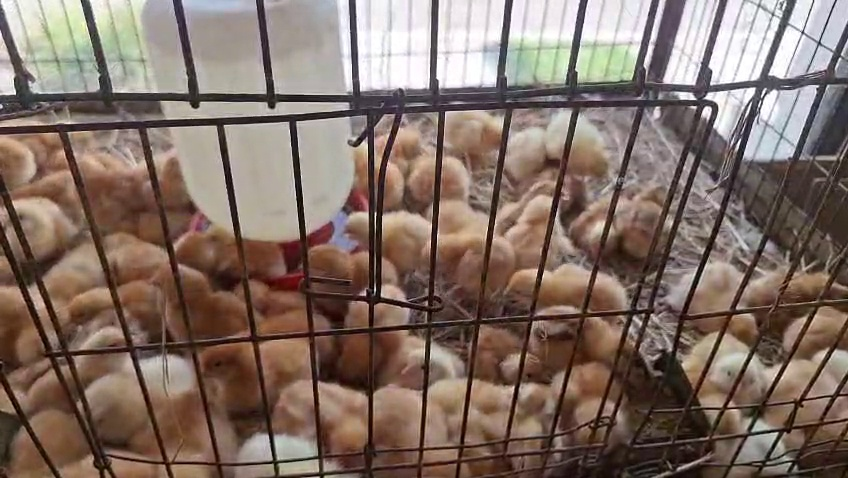Pollo: (353, 357, 459, 461), (75, 341, 198, 423), (200, 317, 312, 402), (712, 380, 809, 478), (157, 334, 221, 477), (509, 258, 635, 329), (421, 348, 500, 459), (230, 414, 360, 478), (664, 255, 765, 333), (328, 264, 397, 378), (267, 361, 376, 432), (484, 191, 575, 275), (544, 353, 630, 439), (150, 267, 259, 333), (9, 388, 88, 478), (478, 353, 551, 445), (435, 268, 546, 328), (335, 203, 441, 265), (772, 378, 848, 464), (47, 228, 149, 291), (296, 228, 398, 291), (746, 251, 846, 315), (106, 138, 200, 205), (198, 211, 287, 281), (683, 320, 761, 399), (96, 205, 172, 285), (153, 217, 225, 298), (757, 270, 848, 334), (74, 425, 179, 477), (612, 185, 691, 252), (484, 313, 569, 373), (410, 187, 485, 251), (3, 278, 63, 355), (738, 332, 809, 397), (524, 306, 620, 354), (780, 321, 847, 387), (426, 102, 504, 157), (571, 184, 636, 249), (398, 127, 463, 190), (70, 156, 136, 217), (6, 188, 83, 239), (273, 292, 339, 346), (352, 138, 406, 204), (544, 103, 602, 164), (385, 326, 454, 376), (62, 277, 138, 320), (35, 102, 96, 154), (22, 351, 97, 392), (504, 108, 546, 177), (68, 321, 142, 359), (520, 154, 579, 199), (0, 137, 42, 191), (490, 449, 549, 477), (490, 185, 580, 202)
